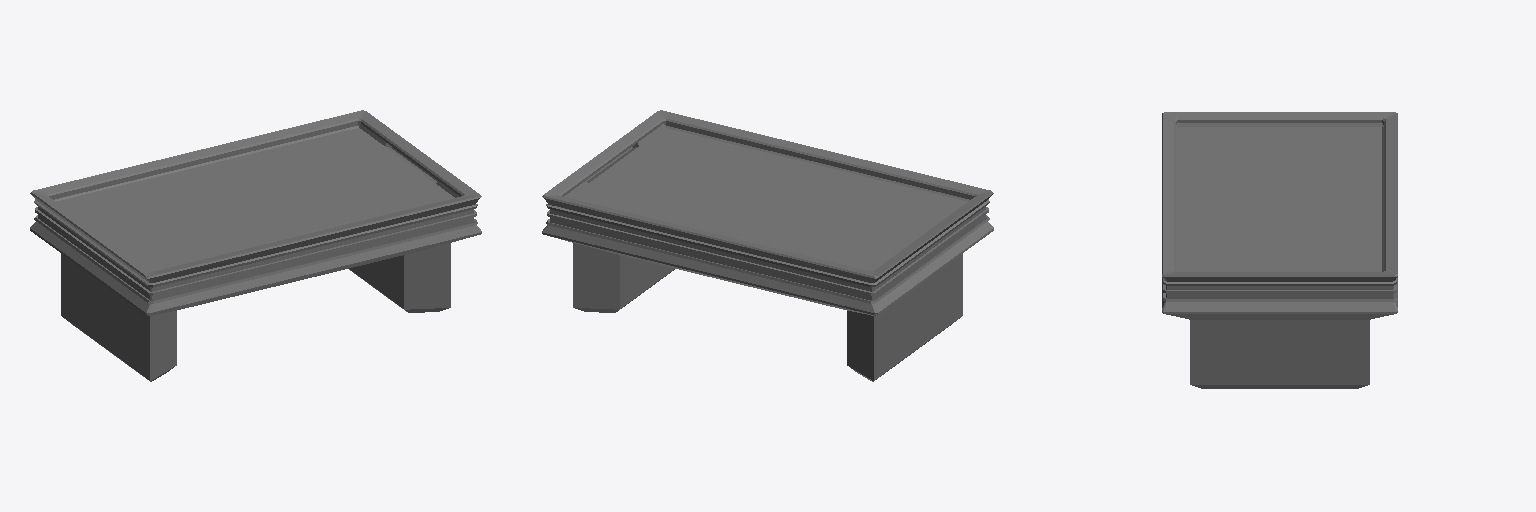
File: hockeytable.obj
The picture shows the model from 3 angles: view 1: azimuth 30°, elevation 25°; view 2: azimuth 150°, elevation 25°; view 3: azimuth 270°, elevation 25°; orthographic projection.
Parts seen in each view (by area): view 1: Warehouse_Models:pCube2; view 2: Warehouse_Models:pCube2; view 3: Warehouse_Models:pCube2.
Part boxes in pixels (x1,y1,x2,y2): Warehouse_Models:pCube2: (30, 110, 481, 381); Warehouse_Models:pCube2: (542, 110, 993, 381); Warehouse_Models:pCube2: (1162, 112, 1397, 388).
Bounding box in the file's own units: 256 × 91.2 × 156.